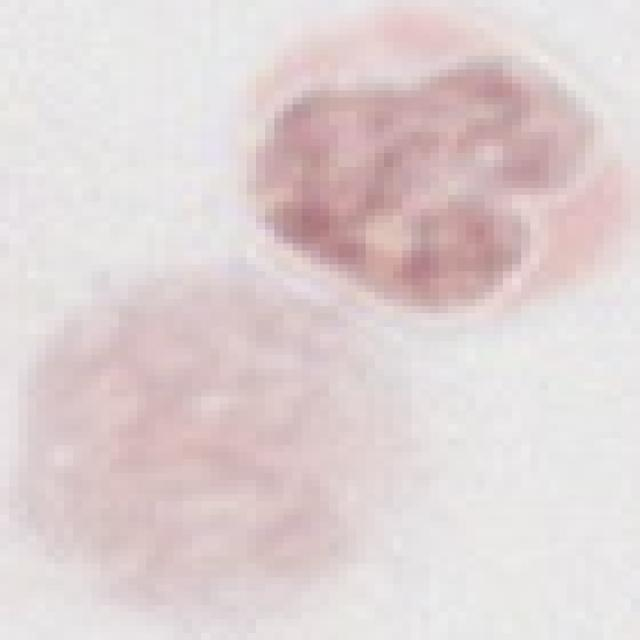nucleus: (258, 63, 609, 329)
